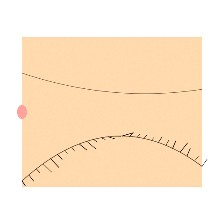hemorrhage_spot: (39, 62, 141, 144)
